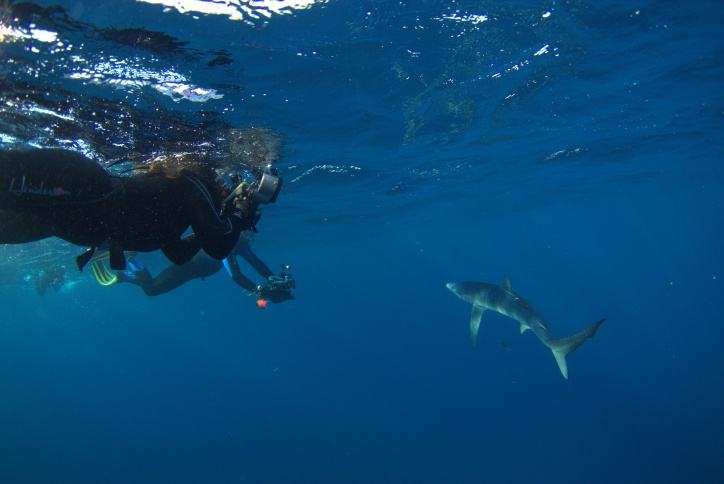Azul: (431, 264, 618, 392)
